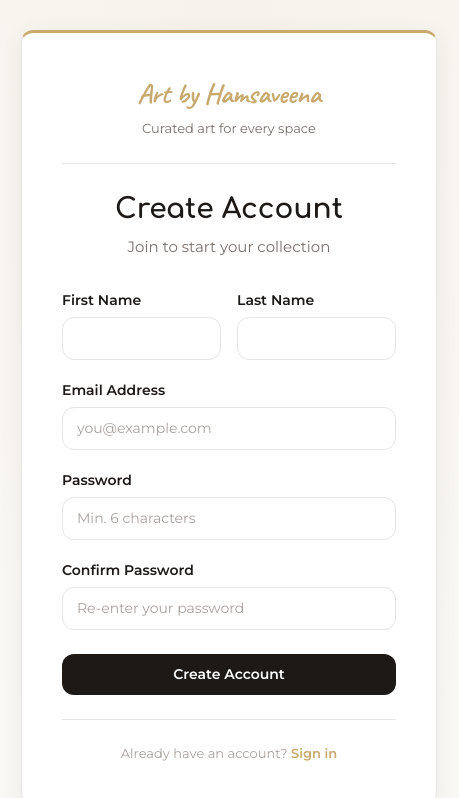
it: SignUpForm › shows auth error when signUp fails
The image size is (459, 798).
Type "Jane" into the field labelled "First Name" at (142, 338), box [62,317,221,360]
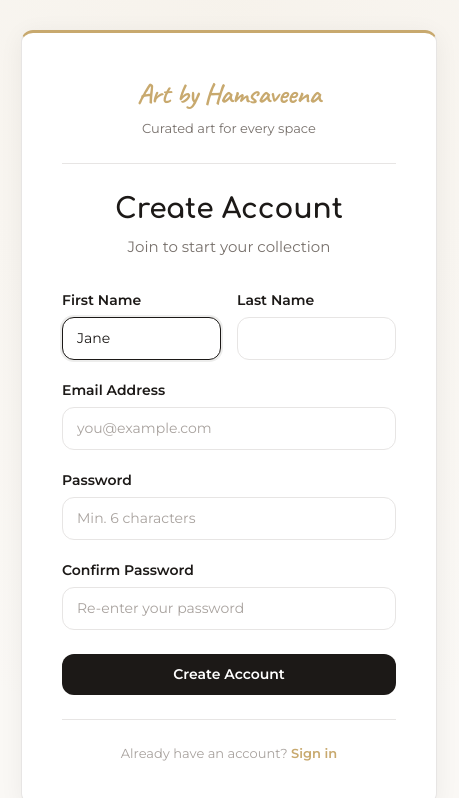
Type "Doe" into the field labelled "Last Name" at (316, 338), box [237,317,396,360]
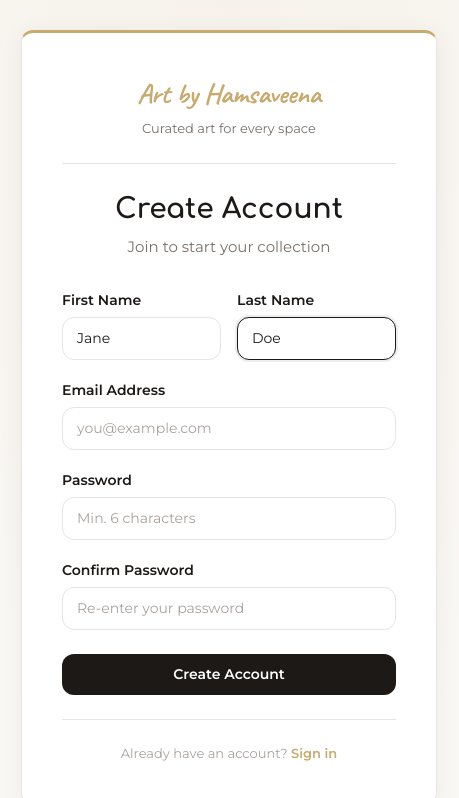
Type "jane@example.com" into the field labelled "Email Address" at (229, 428), box [62,407,396,450]
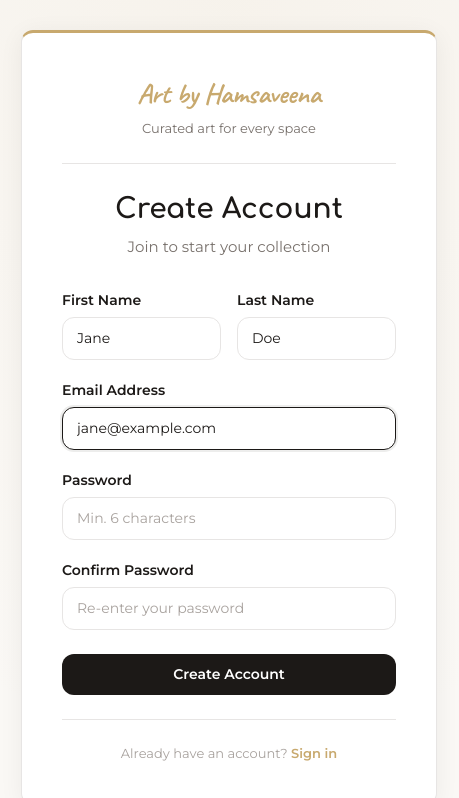
Type "secret1" into the password field labelled "Password" at (229, 518), box [62,497,396,540]
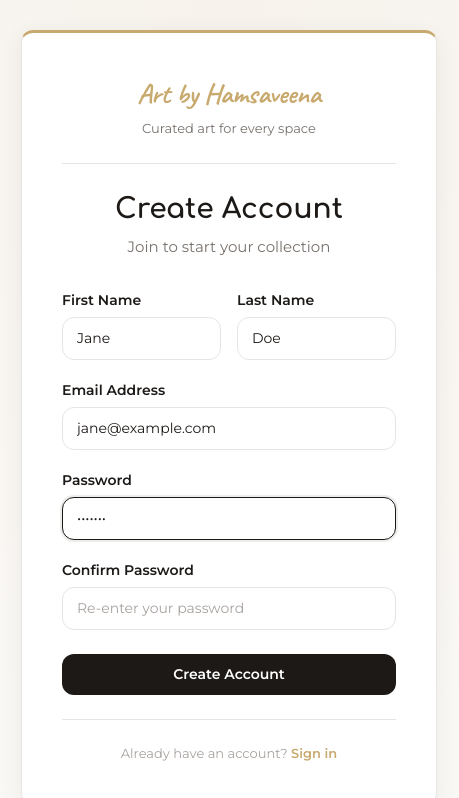
Type "secret1" into the password field labelled "Confirm Password" at (229, 608), box [62,587,396,630]
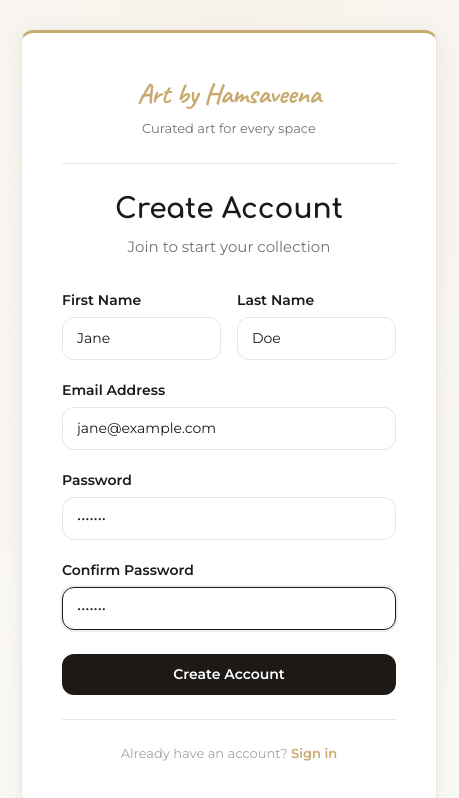
Click the button "Create Account" at (229, 674), box [62,654,396,695]
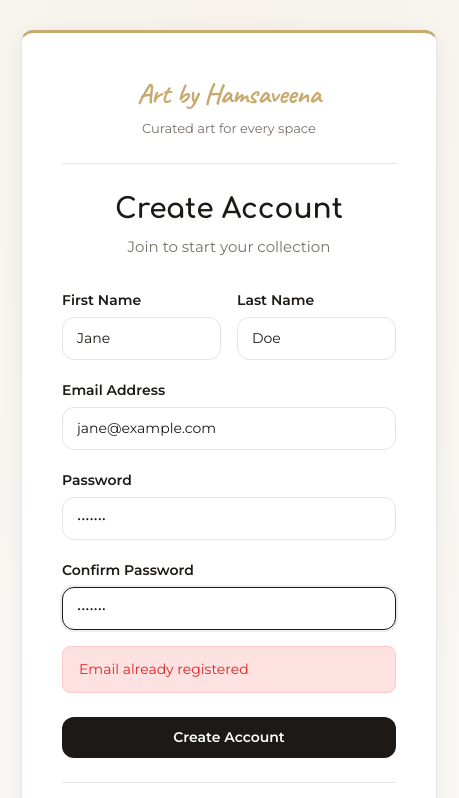
Check: the message reads "Email already registered", box [79,660,249,678]
